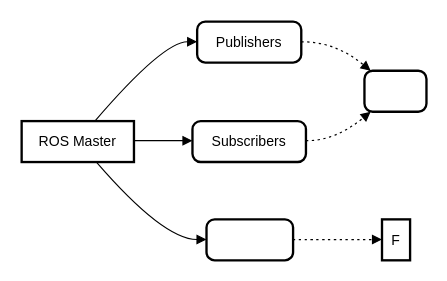
This 447x281 diagram has some shape labels left out. The shapes that lost their labels are listed below. From the top down, each one's centre as x and y in pixels, then its label:
At [395,90]: "Topic".
At [249,239]: "Services".
